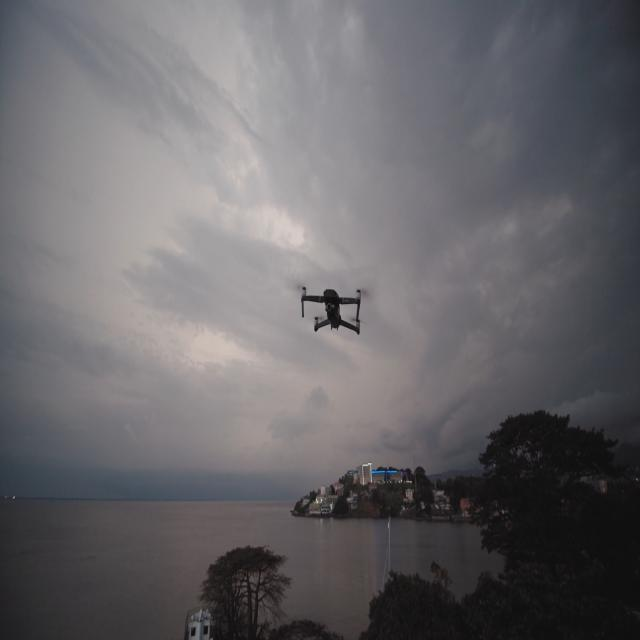drone: (301, 285, 361, 335)
